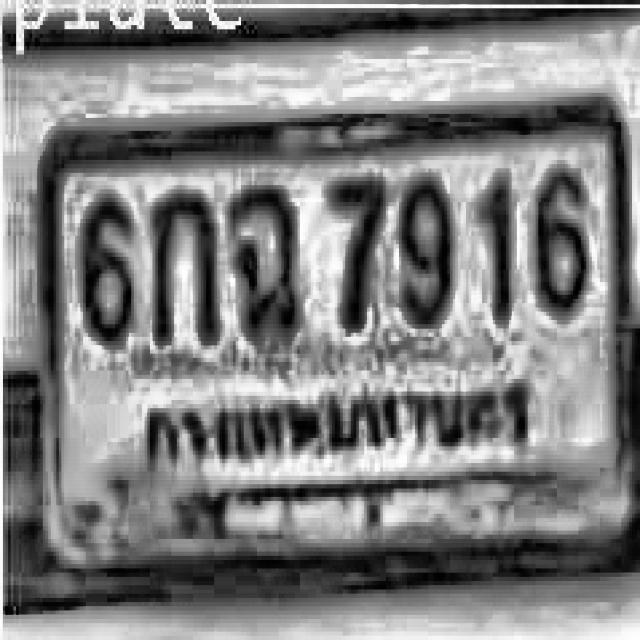license-plate: (30, 98, 640, 586)
